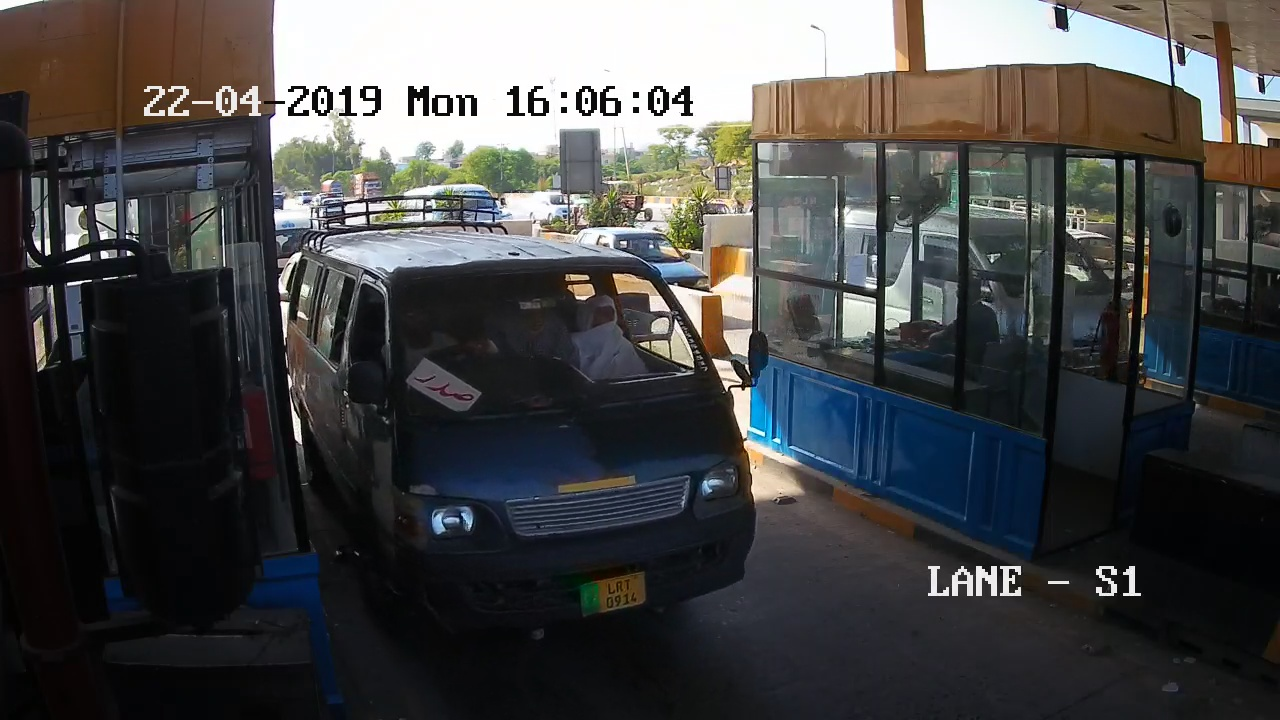Number Plate (Car): (577, 575, 647, 609)
